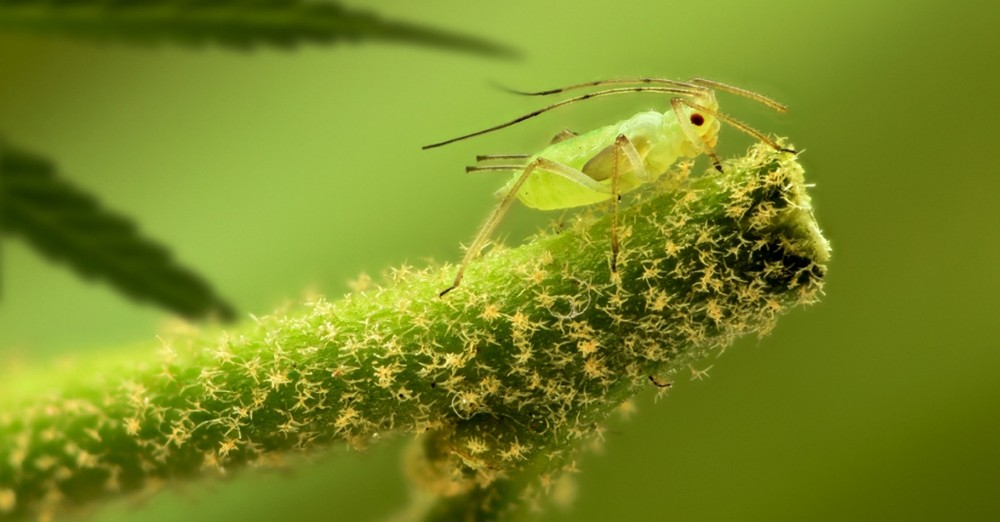Pulgon: (417, 41, 773, 264)
